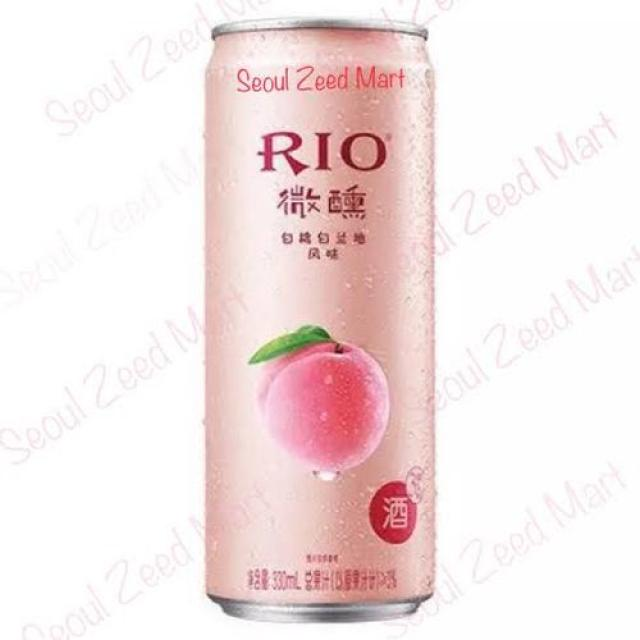can: (202, 18, 436, 626)
